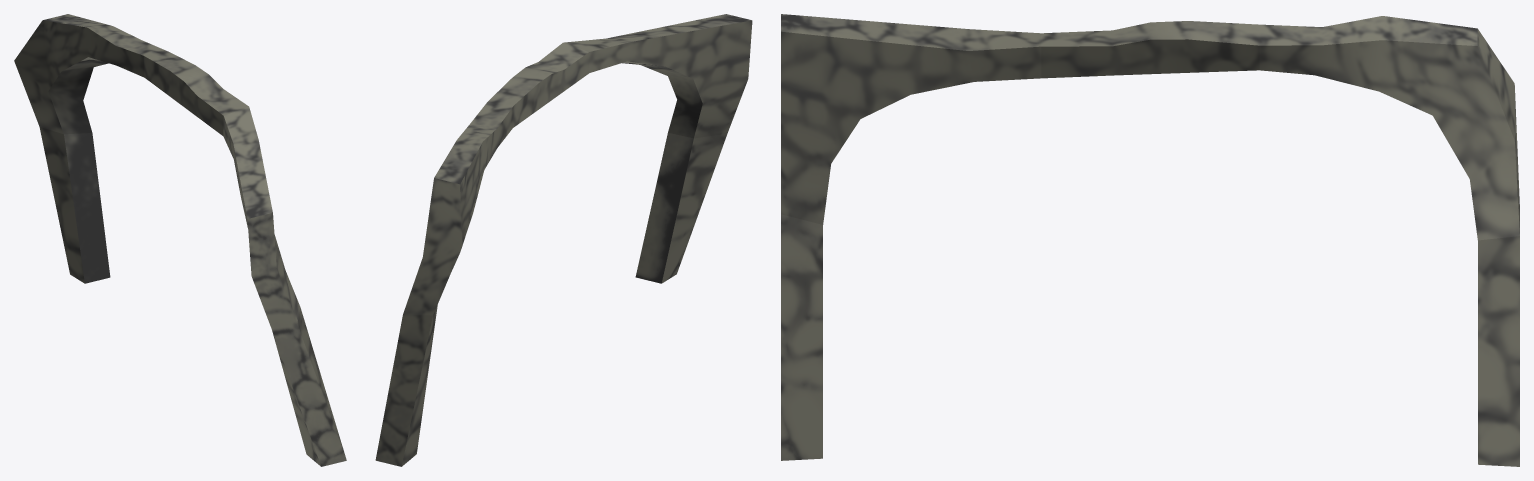
File: BiddingArchFrontMost.fbx
3 views of the same model, side by side, from view 1: azimuth 30°, elevation 25°; view 2: azimuth 150°, elevation 25°; view 3: azimuth 270°, elevation 25° (orthographic). The views are drawn at different scales.
Parts seen in each view (by area): view 1: BiddingArchExterior_to_Interior1; view 2: BiddingArchExterior_to_Interior1; view 3: BiddingArchExterior_to_Interior1.
Boxes of the visible parts, bbox=[...] form: BiddingArchExterior_to_Interior1: bbox=[14, 14, 346, 466]; BiddingArchExterior_to_Interior1: bbox=[375, 14, 752, 466]; BiddingArchExterior_to_Interior1: bbox=[781, 14, 1519, 466].
Size of the model in its own units: 46.23 by 120 by 192.
